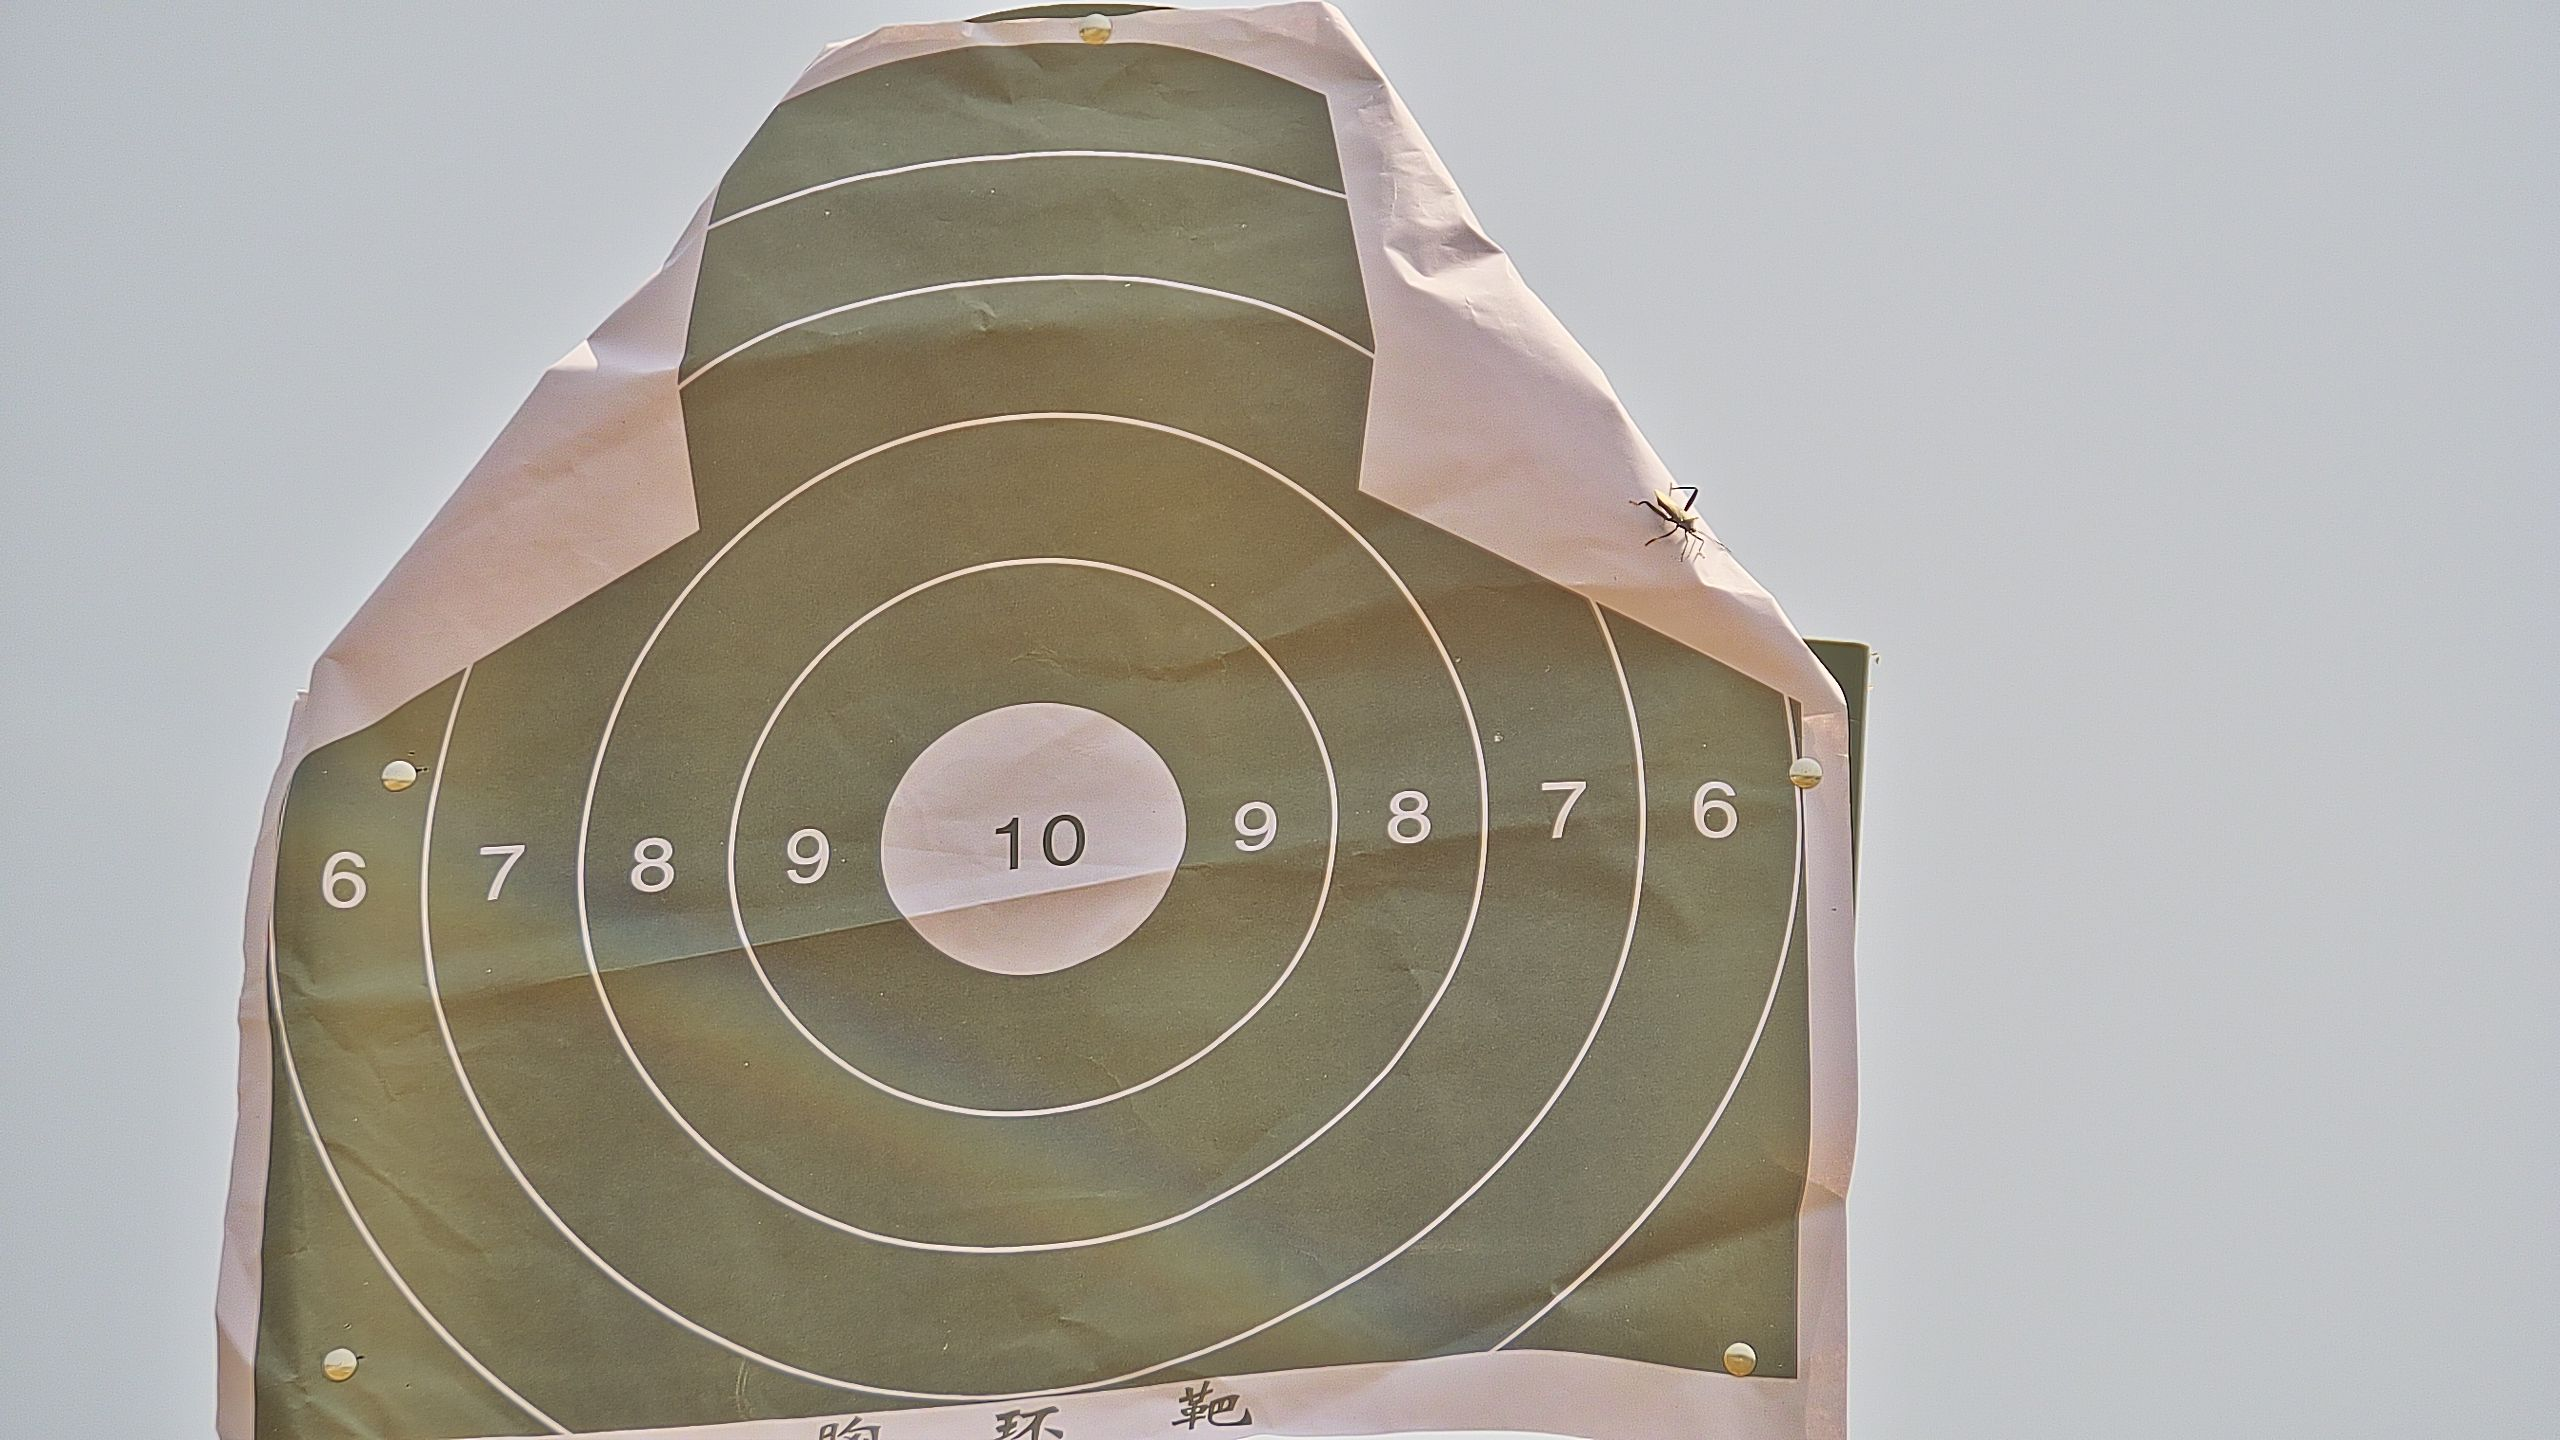kernel: (1029, 840, 1034, 849)
target: (258, 39, 1807, 1440)
ten: (877, 700, 1187, 972)
